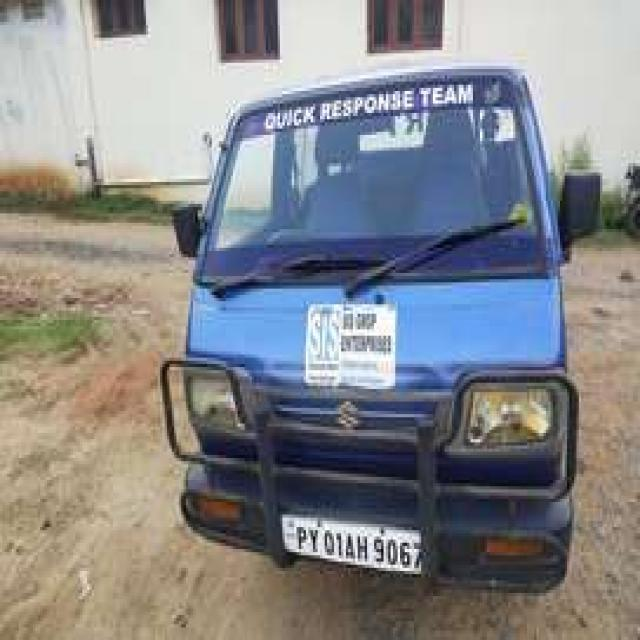Plate: (279, 509, 422, 572)
